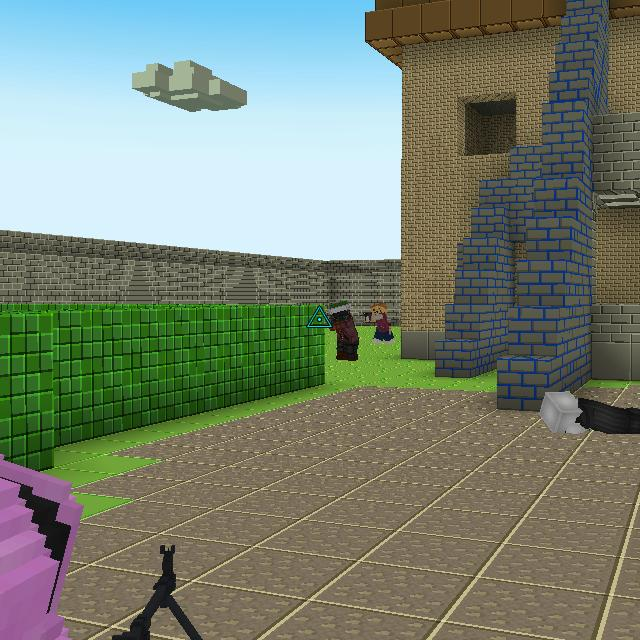enemy: (326, 301, 360, 361), (363, 300, 396, 345)
